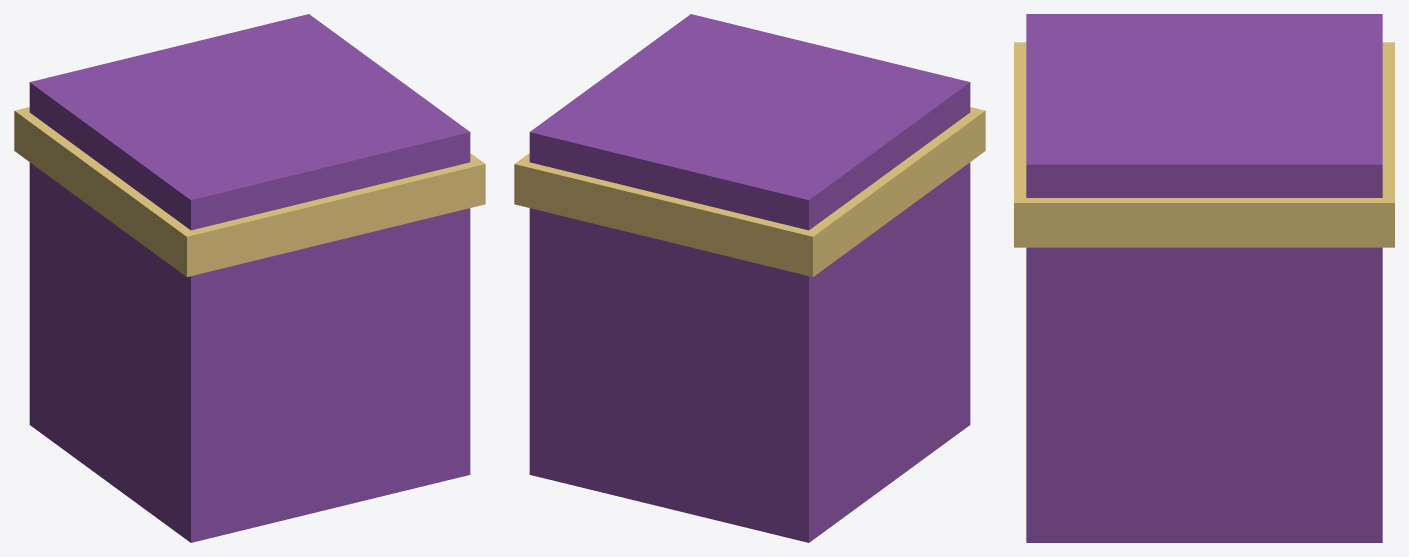
The model's file is mago_sombrio_manga_sup.glb.
3 renders of one model, left to right at view 1: azimuth 30°, elevation 25°; view 2: azimuth 150°, elevation 25°; view 3: azimuth 270°, elevation 25°, orthographic. The views are drawn at different scales.
Visible parts, largest first — view 1: mago_sombrio_manga_sup; view 2: mago_sombrio_manga_sup; view 3: mago_sombrio_manga_sup.
Boxes of the visible parts, <box> form: mago_sombrio_manga_sup: <box>14,14,485,542</box>; mago_sombrio_manga_sup: <box>514,14,985,542</box>; mago_sombrio_manga_sup: <box>1014,14,1394,542</box>.
Size of the model in its own units: 0.31 by 0.34 by 0.31.
